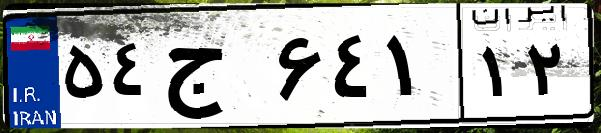1: (385, 28, 445, 110), (475, 38, 525, 113)
2: (525, 38, 570, 115)
4: (330, 28, 385, 110), (110, 28, 158, 98)
5: (57, 26, 110, 100)
6: (270, 28, 330, 110)
ج: (158, 20, 270, 120)
